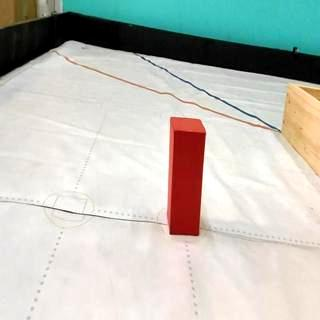redbox: (168, 116, 206, 236)
